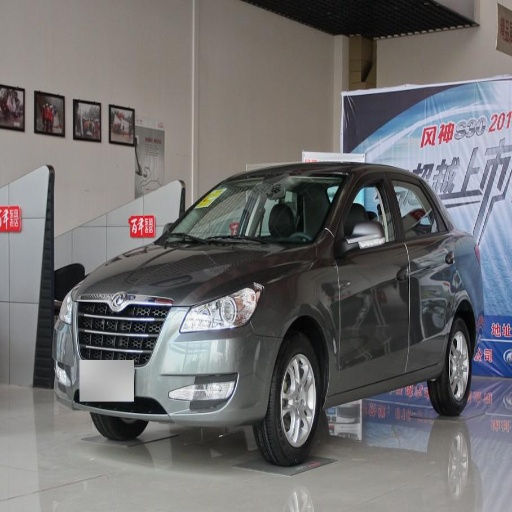front_bumper: (54, 290, 280, 428)
front_glass: (172, 171, 347, 245)
front_left_door: (335, 172, 410, 390)
